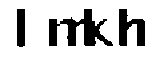h: (117, 7, 151, 52)
k: (83, 2, 113, 55)
l: (9, 4, 35, 51)
m: (42, 17, 88, 52)
